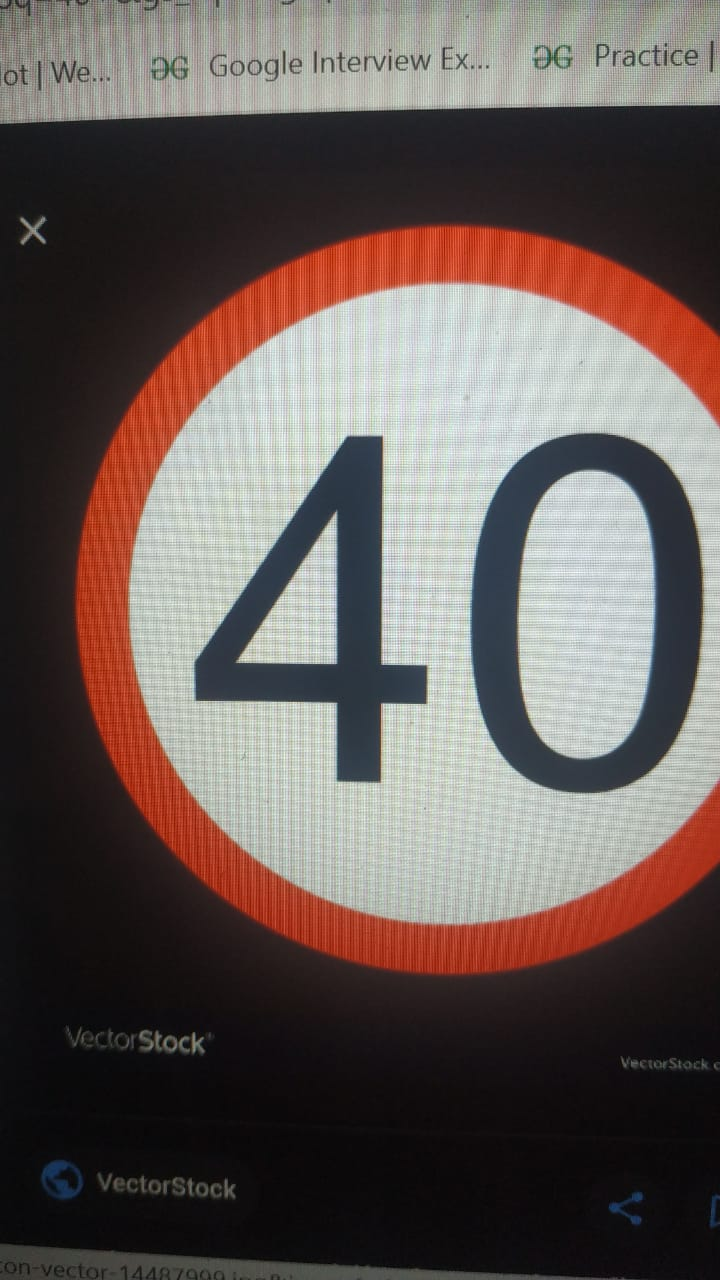SPEED LIMIT (40 KM/H): (35, 218, 720, 1004)
